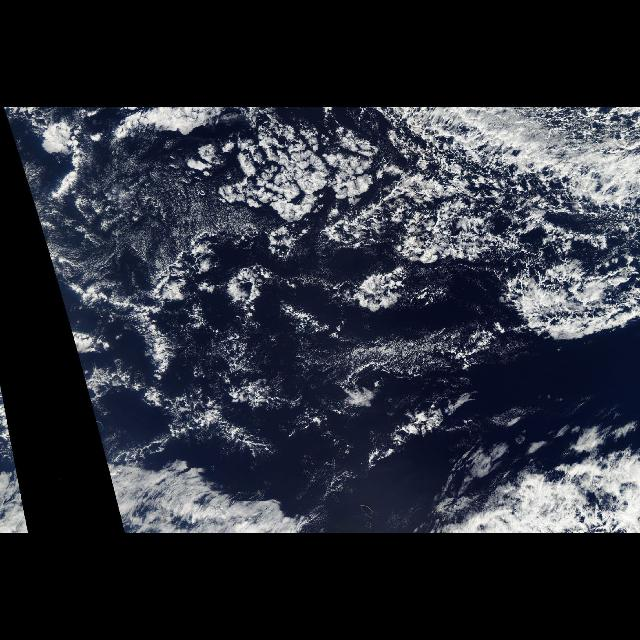Fish: (386, 112, 640, 208), (510, 256, 634, 396)
Gravel: (398, 110, 640, 336)
Sugar: (47, 156, 257, 262), (347, 330, 521, 372)
